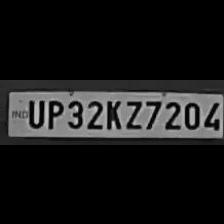0: (180, 99, 200, 129)
2: (84, 96, 104, 128), (161, 98, 181, 130)
3: (64, 96, 82, 128)
4: (200, 97, 222, 128)
7: (142, 97, 160, 129)
K: (104, 97, 122, 129)
P: (44, 96, 62, 128)
U: (24, 96, 44, 127)
Z: (122, 97, 142, 129)
